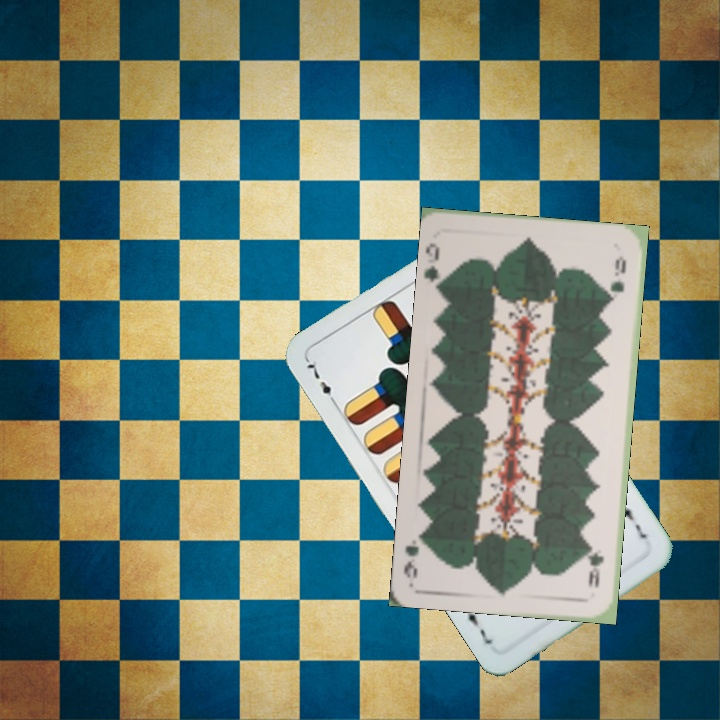E7: (302, 356, 340, 408), (618, 497, 650, 543)
G9: (423, 238, 450, 292), (584, 542, 606, 591)
